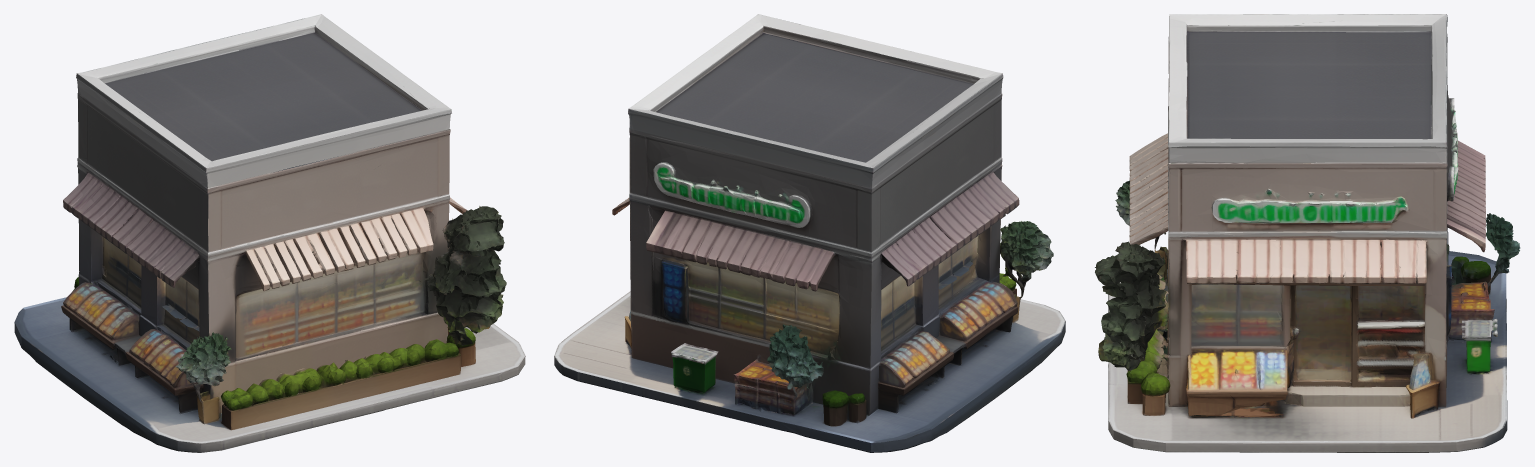
File: shop_trellis.glb
The picture shows the model from 3 angles, left to right: view 1: azimuth 30°, elevation 25°; view 2: azimuth 150°, elevation 25°; view 3: azimuth 270°, elevation 25°; orthographic projection. The views are drawn at different scales.
Bounding box in the file's own units: 0.9955 × 0.6825 × 0.9305.
Materials: 1 (1 with a texture image).
